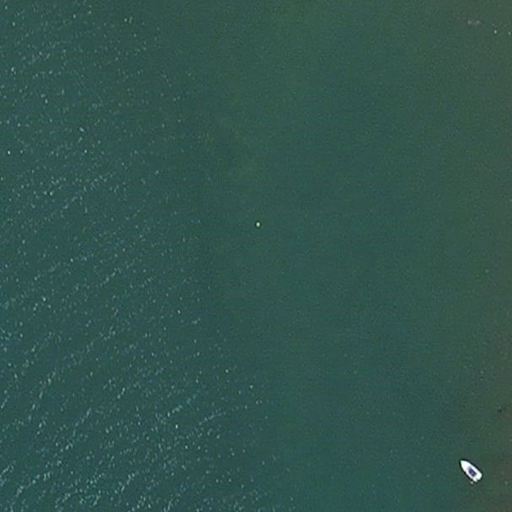ship: (459, 458, 485, 484)
